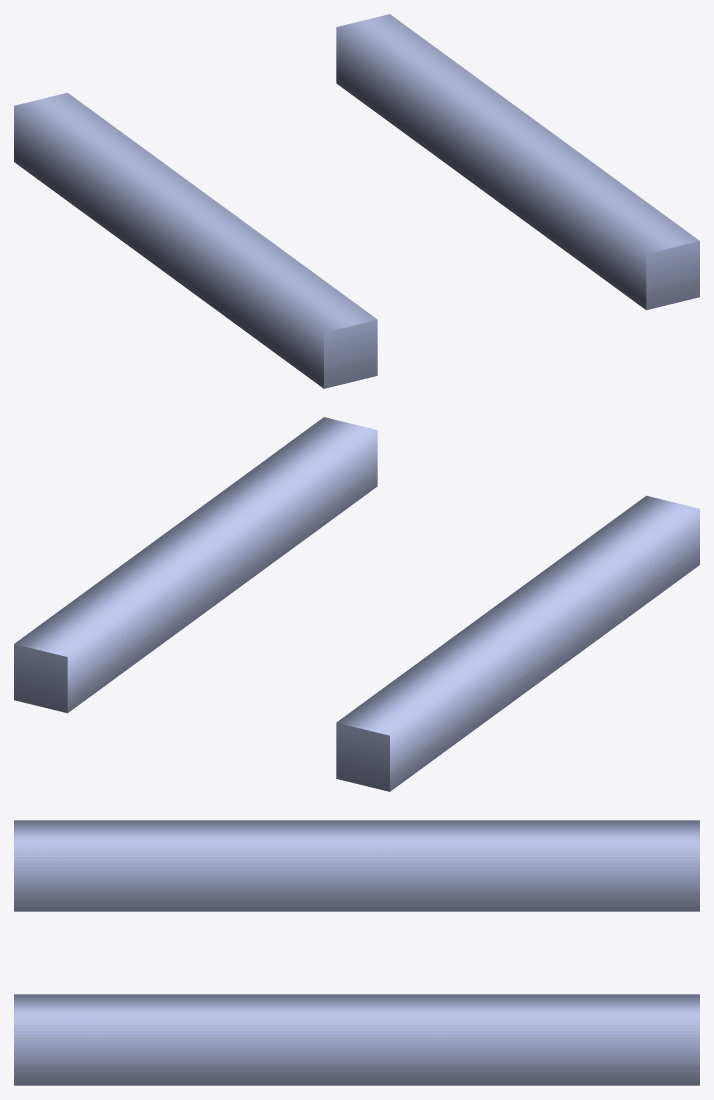
The model's file is spline-track.glb.
3 views of the same model, one above another, from view 1: azimuth 30°, elevation 25°; view 2: azimuth 150°, elevation 25°; view 3: azimuth 270°, elevation 25° (orthographic). The views are drawn at different scales.
Parts seen in each view (by area): view 1: spline-track; view 2: spline-track; view 3: spline-track.
Part boxes in pixels (x1,y1,x2,y2): spline-track: [14, 14, 699, 388]; spline-track: [14, 417, 699, 791]; spline-track: [14, 820, 699, 1085].
Size of the model in its own units: 0.7 by 0.1 by 1.
1 material, 1 textured.
